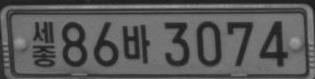0: (196, 20, 222, 67)
3: (164, 20, 190, 67)
4: (258, 20, 288, 67)
6: (93, 21, 119, 67)
7: (227, 20, 253, 67)
8: (61, 20, 87, 67)
바: (122, 23, 150, 63)
세종_V: (32, 21, 57, 67)
